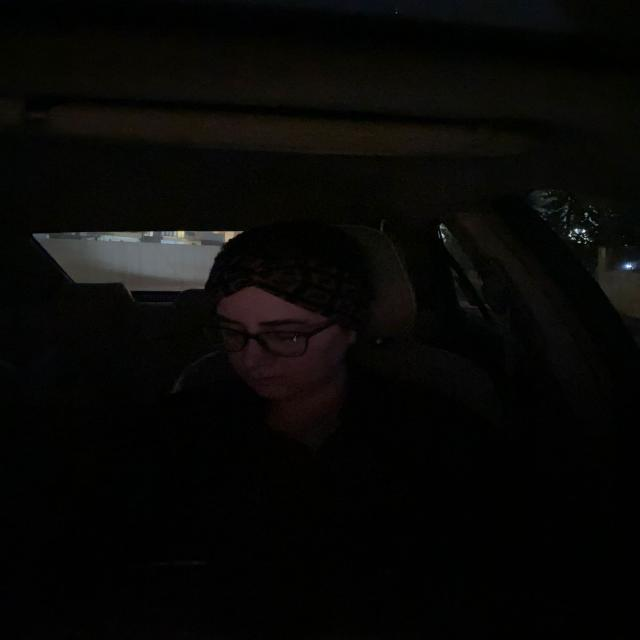drowsy: (205, 255, 362, 398)
